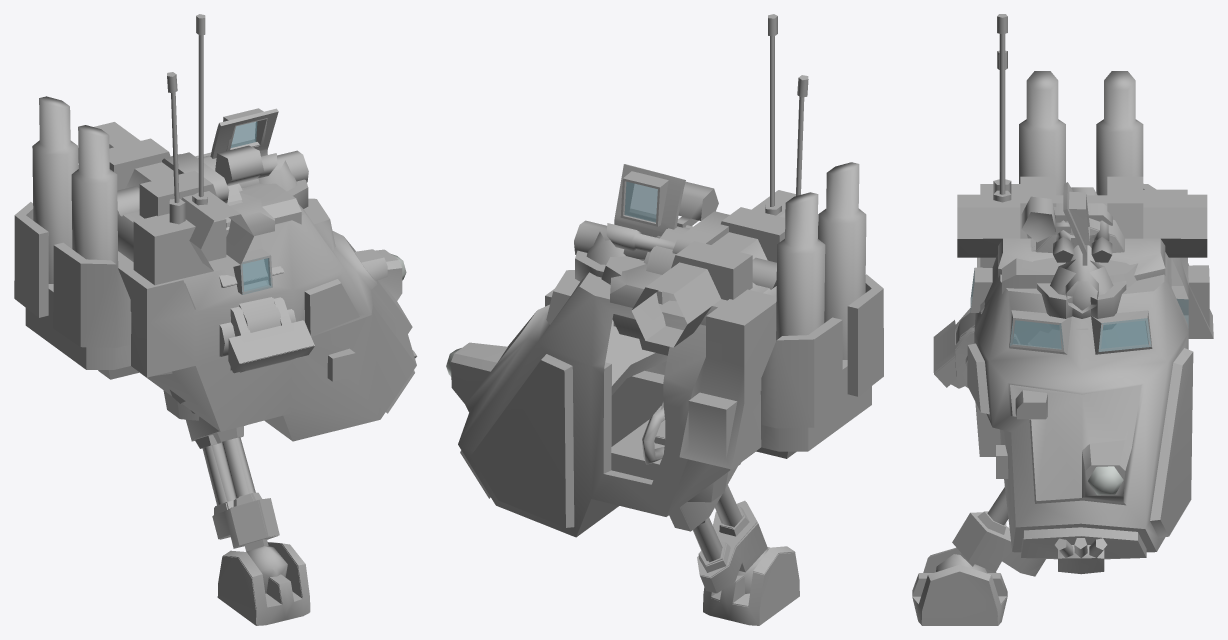
Rendered from sentinel_multilaser-0hp2atg.glb.
The picture shows the model from 3 angles, left to right: view 1: azimuth 30°, elevation 25°; view 2: azimuth 150°, elevation 25°; view 3: azimuth 270°, elevation 25°; orthographic projection. The views are drawn at different scales.
Parts seen in each view (by area): view 1: turret, turret_interior, body, legr3, legl2, legl3, legl4, legr4, door, legl1, gun_rot_melta, gun (+1 smaller); view 2: turret, turret_interior, body, legr3, legr4, door, legl3, gun, legl1, legl4; view 3: turret, turret_interior, body, legl4, legl3, gun_rot_melta, door, gun, legr2, legl2, legr1, legl1 (+1 smaller).
Boxes of the visible parts, x1,y1,x2,y2 form: turret: (14,14,417,441); turret_interior: (14,97,415,440); body: (78,122,308,271); legr3: (191,425,278,593); legl2: (170,297,313,413); legl3: (186,416,287,577); legl4: (223,542,310,625); legr4: (217,543,309,625); door: (210,108,278,158); legl1: (198,155,282,332); gun_rot_melta: (226,183,301,235); gun: (117,150,308,216); turret: (446,14,883,537); turret_interior: (451,163,883,537); body: (575,190,818,355); legr3: (642,419,767,593); legr4: (703,552,799,625); door: (613,164,685,326); legl3: (642,408,768,577); gun: (574,220,776,289); legl1: (643,226,689,274); legl4: (703,546,799,607); turret: (967,14,1213,574); turret_interior: (967,71,1213,558); body: (957,176,1207,329); legl4: (912,547,1006,625); legl3: (936,487,1045,573); gun_rot_melta: (1002,257,1065,293); door: (1063,182,1089,265); gun: (1065,187,1098,329); legr2: (934,321,1029,388); legl2: (933,308,1031,373); legr1: (959,228,1124,344); legl1: (956,218,1124,343).
Bounding box in the file's own units: 46.98 × 70.9 × 33.56.
